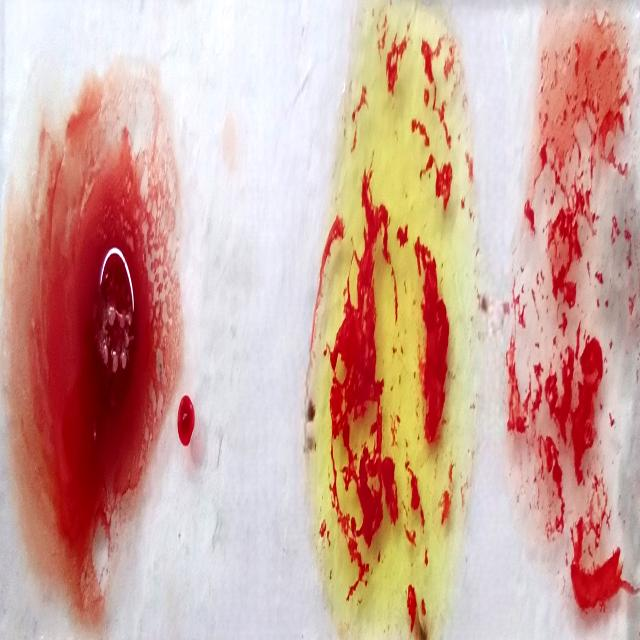A: (60, 100, 162, 624)
B: (327, 0, 466, 640)
D: (514, 36, 640, 630)
